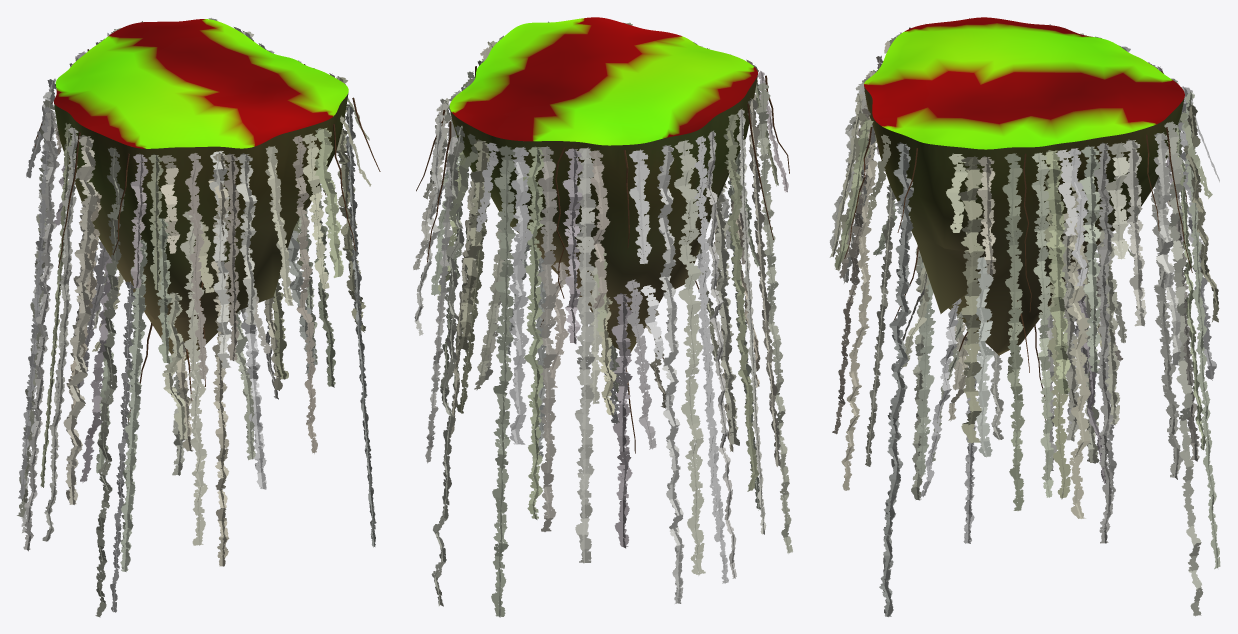
File: SM_H16_Floater05.fbx
3 renders of one model, left to right at view 1: azimuth 30°, elevation 25°; view 2: azimuth 150°, elevation 25°; view 3: azimuth 270°, elevation 25°, orthographic. The views are drawn at different scales.
Visible parts, largest first — view 1: SM_H16_Floater05_Ivy, SM_H16_Floater05; view 2: SM_H16_Floater05_Ivy, SM_H16_Floater05; view 3: SM_H16_Floater05_Ivy, SM_H16_Floater05.
Boxes of the visible parts, bbox=[...] form: SM_H16_Floater05_Ivy: bbox=[17, 18, 380, 617]; SM_H16_Floater05: bbox=[54, 19, 348, 360]; SM_H16_Floater05_Ivy: bbox=[413, 21, 792, 617]; SM_H16_Floater05: bbox=[449, 17, 757, 352]; SM_H16_Floater05_Ivy: bbox=[829, 18, 1220, 616]; SM_H16_Floater05: bbox=[864, 17, 1184, 355].
Size of the model in its own units: 21.28 by 31.98 by 22.11.
